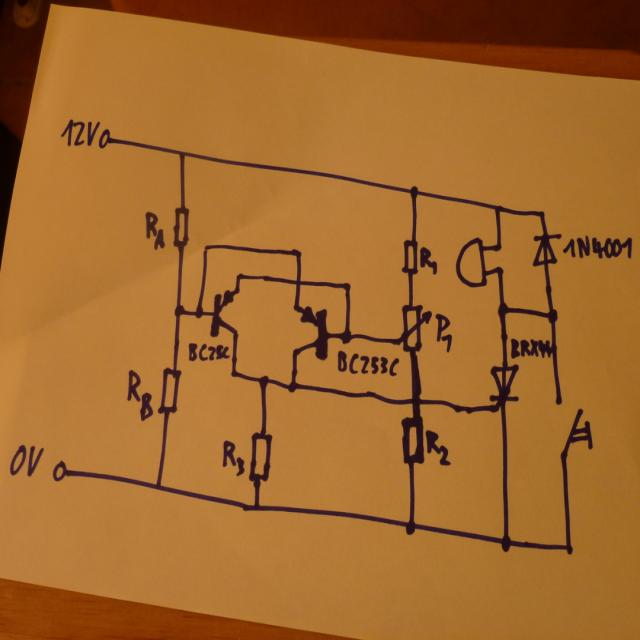crossover: (408, 393, 423, 408), (293, 276, 303, 288)
diode: (532, 232, 561, 267)
junction: (404, 518, 416, 538), (546, 307, 558, 325), (500, 534, 511, 553), (496, 301, 508, 318), (193, 304, 205, 321), (286, 378, 298, 394), (340, 328, 352, 344), (257, 374, 270, 388), (173, 302, 184, 318), (408, 183, 418, 199), (293, 244, 303, 259), (564, 542, 574, 556), (492, 202, 502, 214), (342, 279, 352, 291), (177, 148, 187, 159), (495, 263, 504, 275), (252, 501, 261, 513), (153, 480, 162, 492), (228, 368, 238, 378), (494, 241, 502, 253), (538, 208, 545, 220), (202, 242, 209, 254), (235, 271, 242, 281)
resistor: (398, 302, 432, 353), (400, 413, 425, 466), (248, 430, 272, 482), (156, 366, 182, 413), (171, 204, 190, 250), (400, 237, 418, 275)
switch: (554, 398, 593, 458)
terminal: (52, 459, 68, 482), (98, 128, 111, 150)
text: (336, 348, 399, 377), (562, 235, 632, 260), (126, 368, 154, 421), (8, 442, 44, 477), (60, 117, 100, 147), (424, 428, 451, 466), (509, 337, 551, 359), (221, 438, 245, 476), (187, 341, 230, 361), (144, 210, 165, 250), (434, 312, 453, 352), (418, 244, 438, 275)
thyristor: (489, 364, 520, 416)
transistor: (290, 304, 328, 360), (208, 288, 240, 338)
